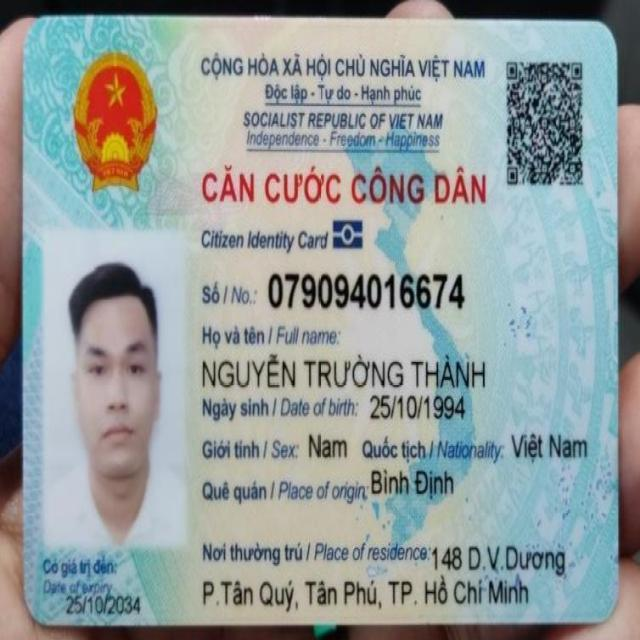current_place: (199, 571, 532, 612), (432, 537, 569, 575)
dob: (369, 391, 468, 421)
expire_date: (65, 588, 145, 617)
gender: (306, 427, 351, 465)
id: (266, 268, 466, 311)
name: (200, 352, 490, 393)
nationality: (505, 428, 591, 463)
origin_place: (368, 463, 457, 501)
